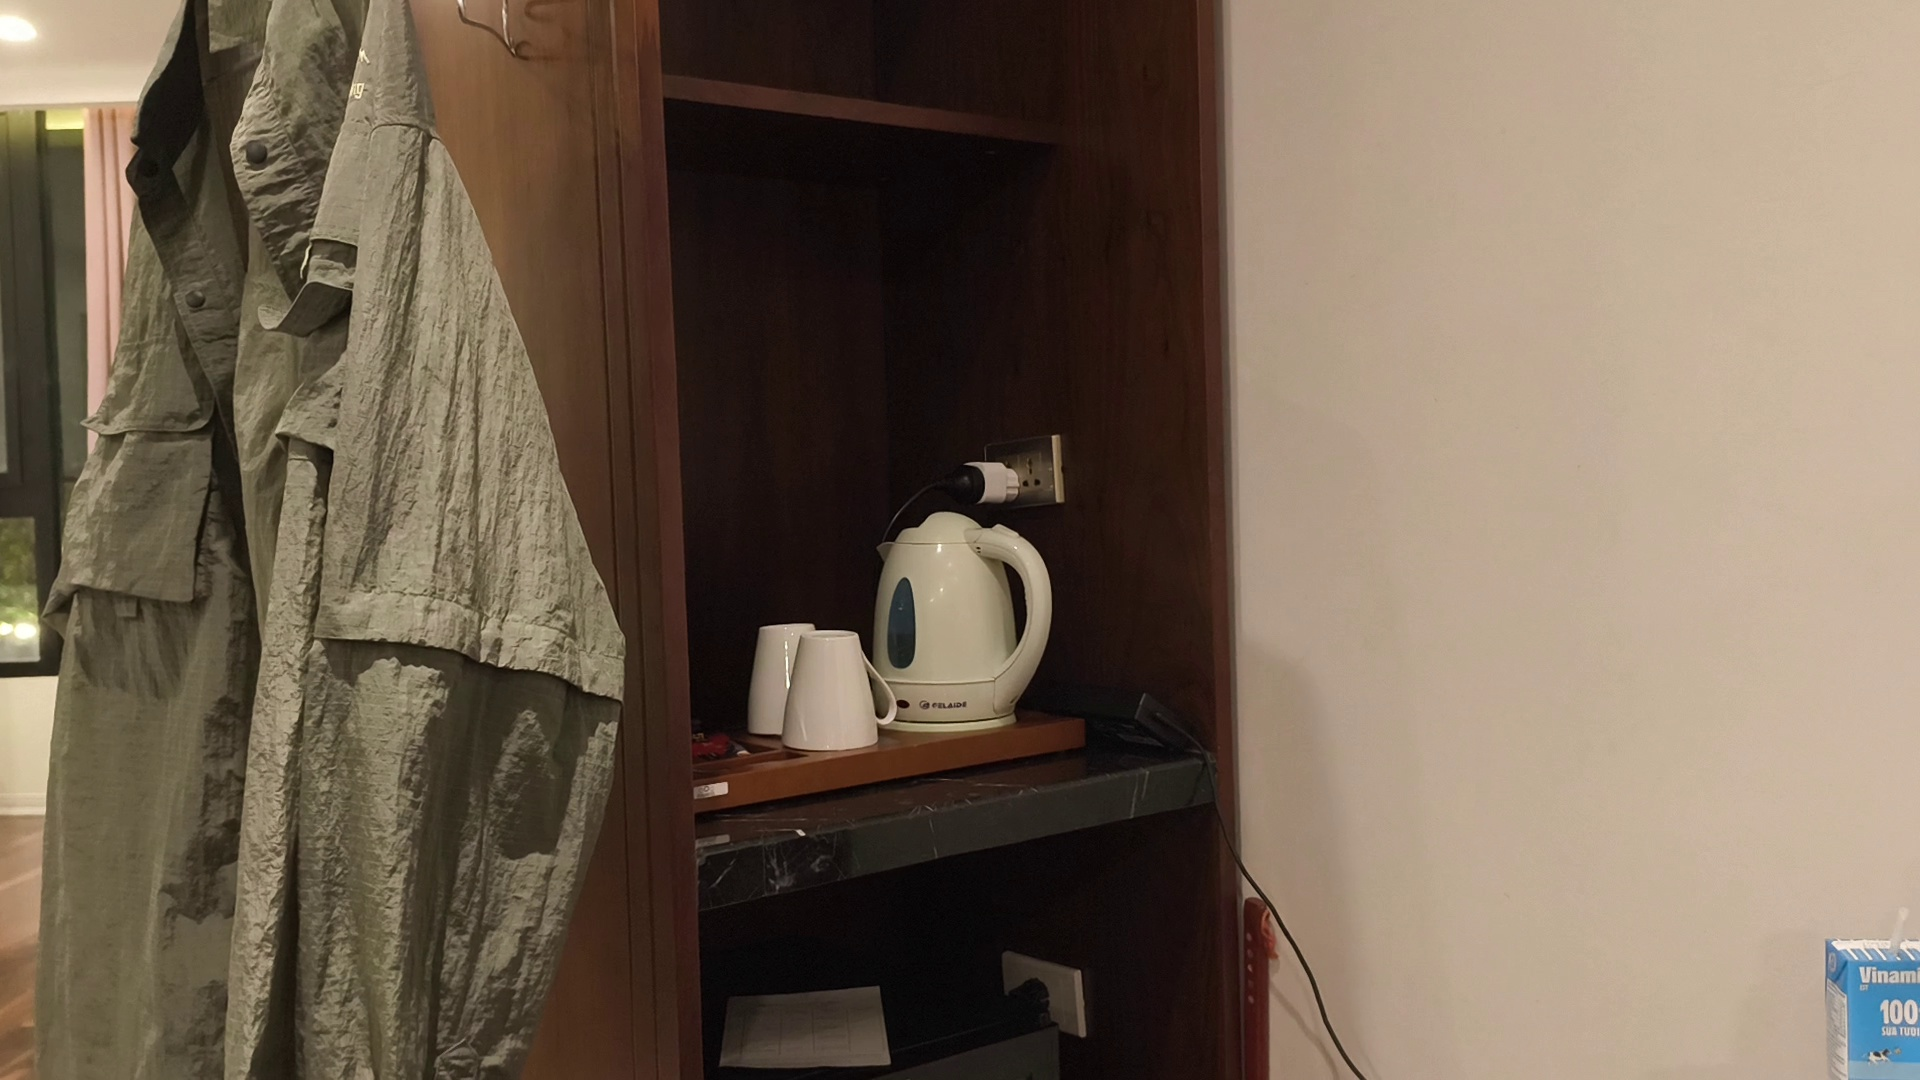cloth: (40, 95, 626, 1055)
cpu: (758, 616, 898, 745)
cup: (882, 506, 1054, 723)
dianxian: (960, 433, 1054, 510)
milk: (1812, 906, 1920, 1080)
